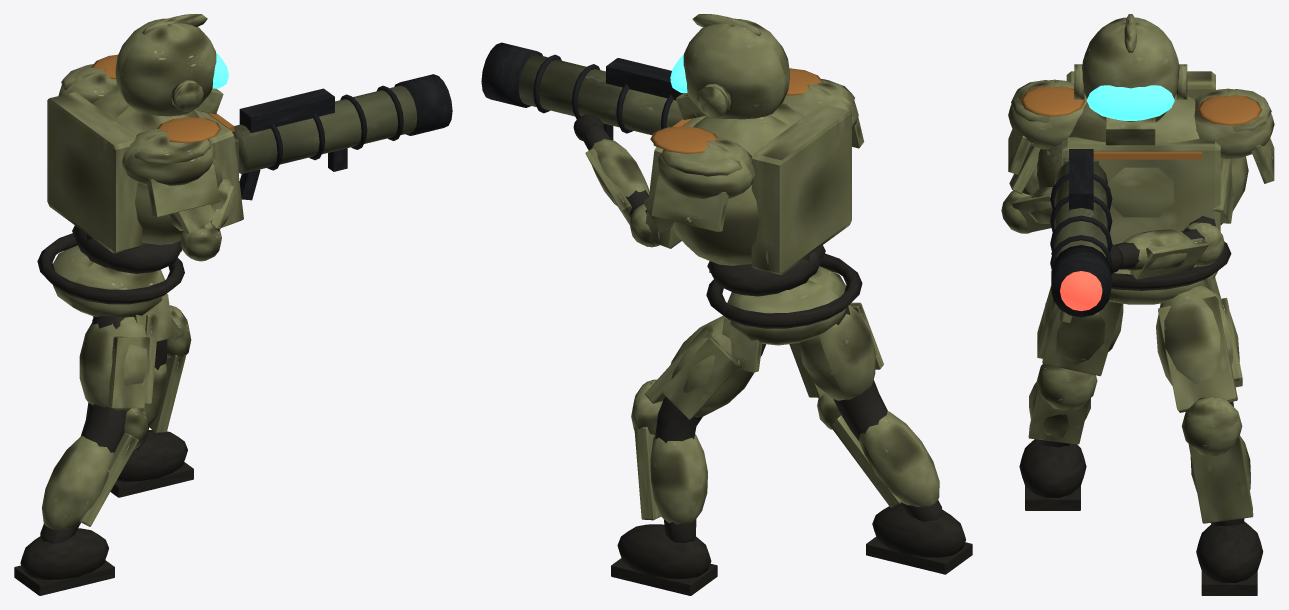
The model's file is unit_spartan_2.glb.
3 renders of one model, left to right at view 1: azimuth 30°, elevation 25°; view 2: azimuth 150°, elevation 25°; view 3: azimuth 270°, elevation 25°, orthographic. The views are drawn at different scales.
Parts seen in each view (by area): view 1: unit_spartan_2; view 2: unit_spartan_2; view 3: unit_spartan_2.
Boxes of the visible parts, x1,y1,x2,y2 form: unit_spartan_2: (14,14,452,595); unit_spartan_2: (481,14,972,595); unit_spartan_2: (1001,14,1274,595).
Bounding box in the file's own units: 1.79 × 1.98 × 0.8977.
Materials: 8 (5 with a texture image).
